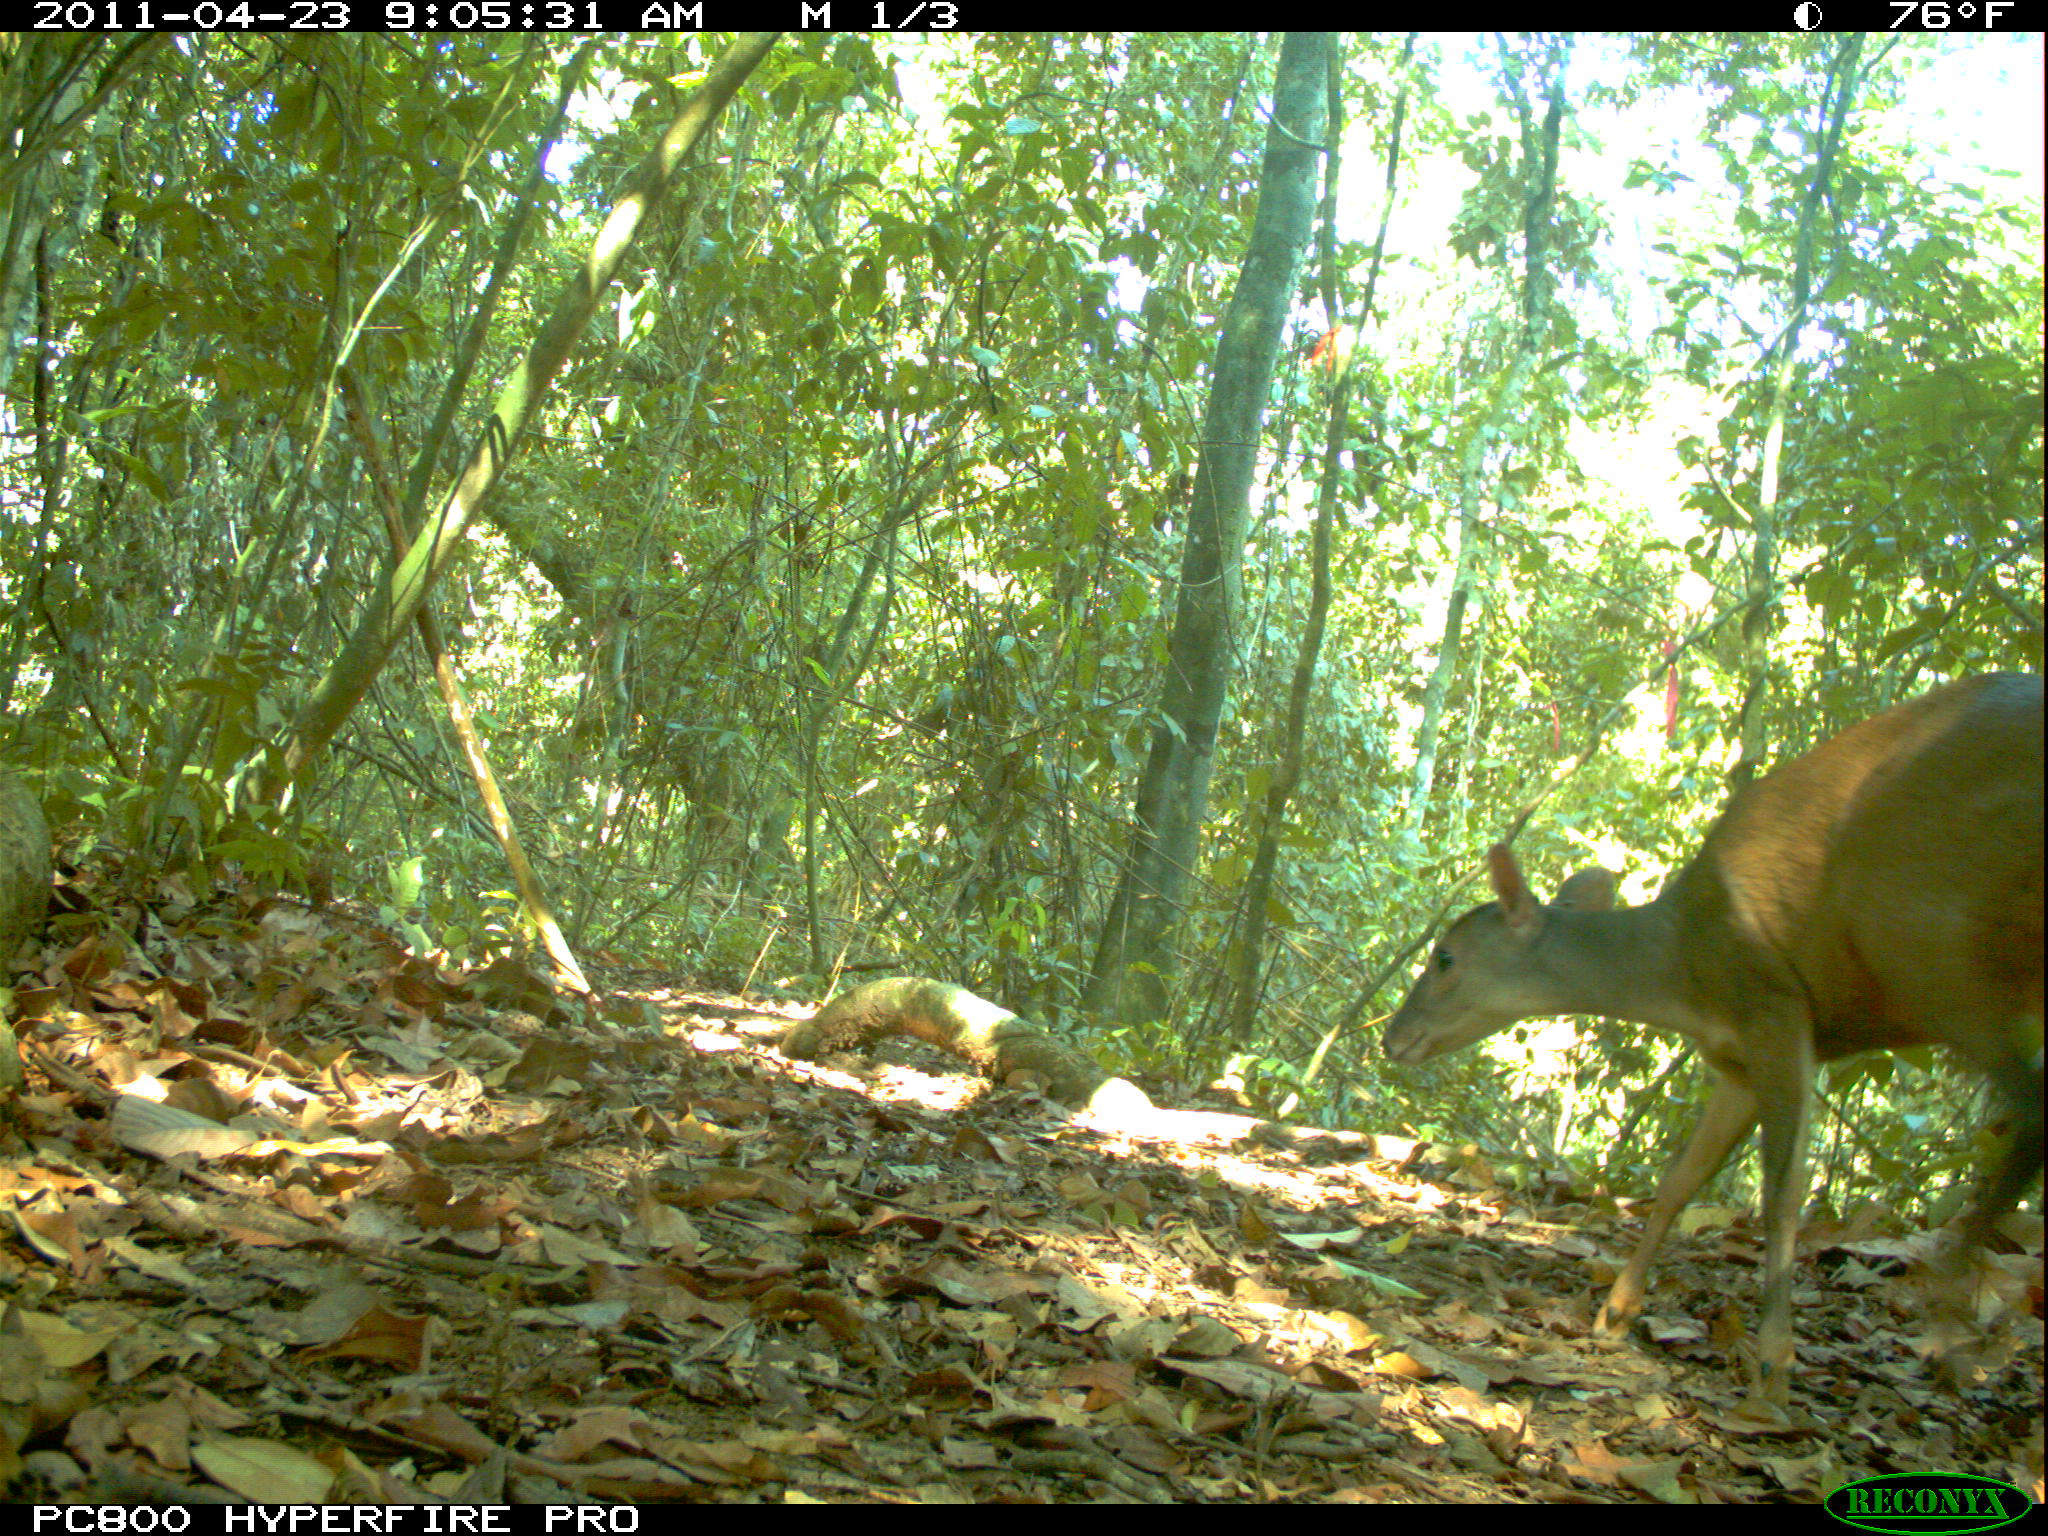Deer: (1367, 663, 2037, 1413)
